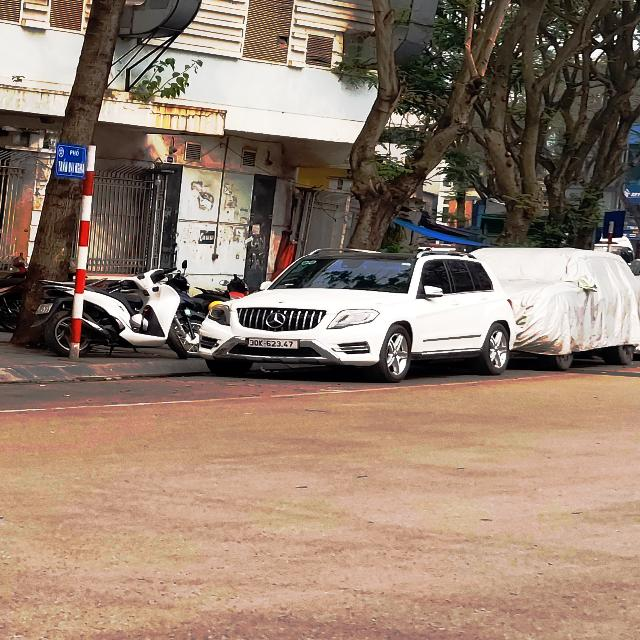license_plate: (249, 339, 299, 350)
